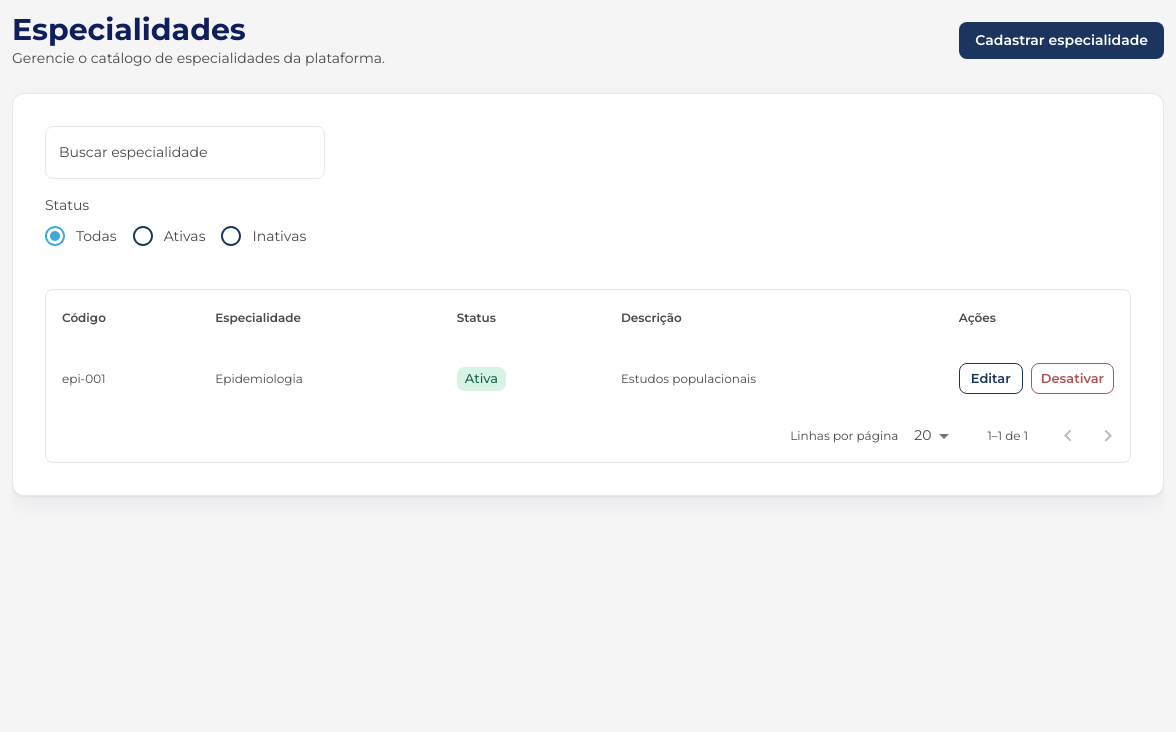
Test: Specialties › descarta alterações ao cancelar e retorna à listagem sem salvar
The width and height of the screenshot is (1176, 732).
Click the button "Editar" at (991, 379), box [959, 363, 1023, 394]
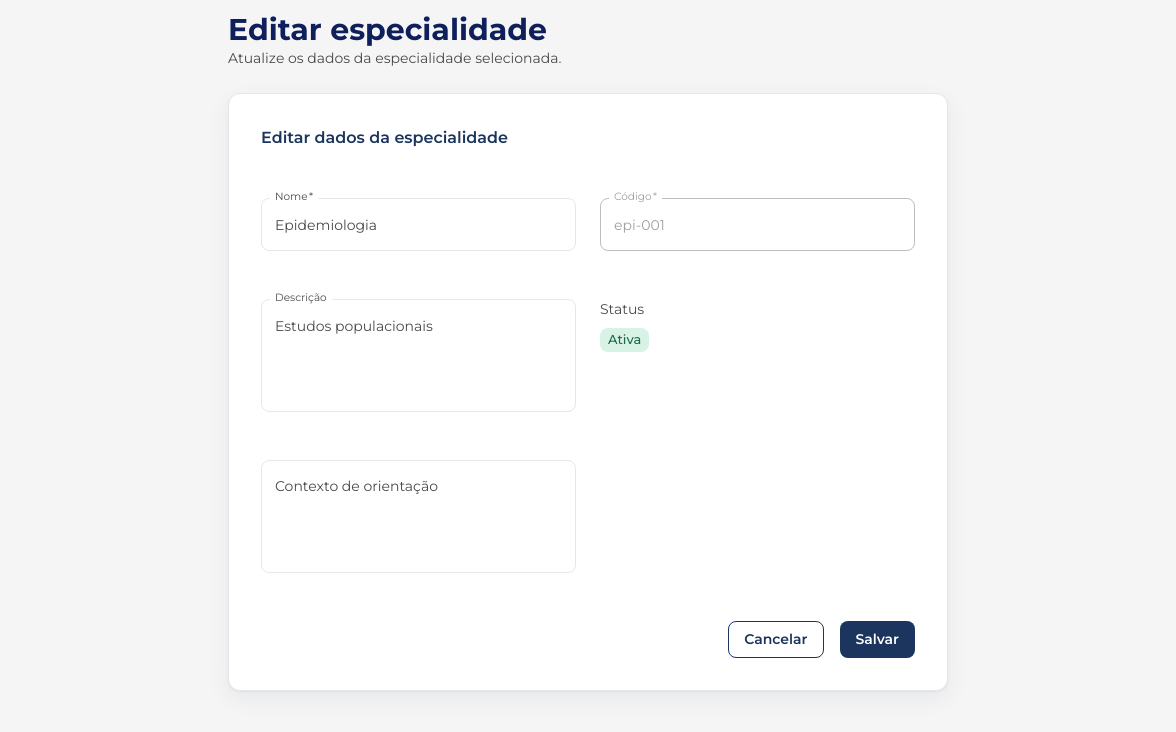
Replace the text in the field labelled "Nome *" with "Alteração não salva" at (418, 225), box [261, 198, 576, 251]
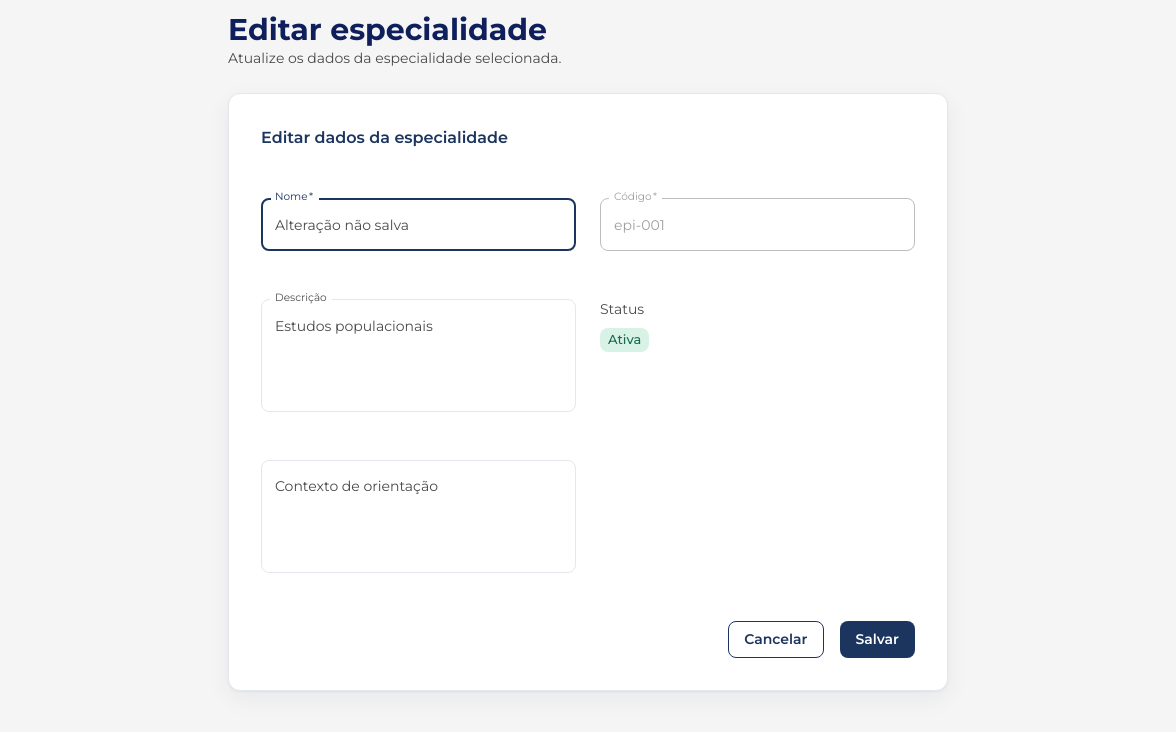
Click the button "Cancelar" at (776, 639), box [728, 621, 824, 658]
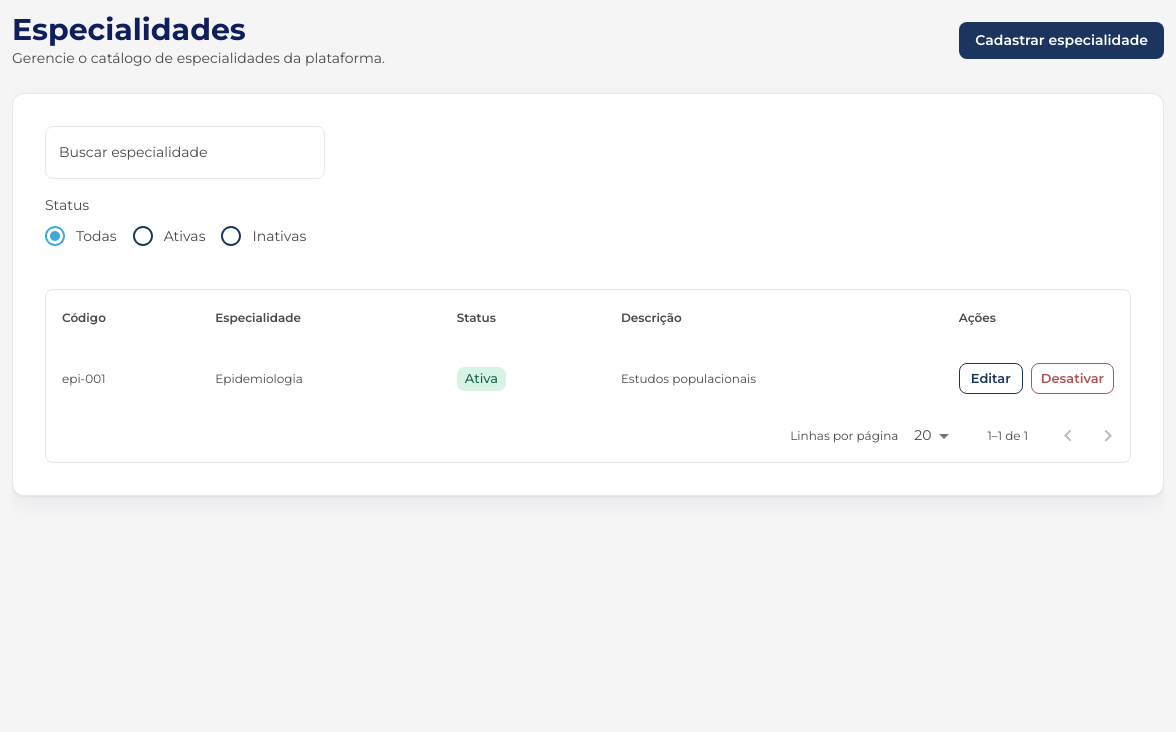
Check: the table named "Lista de especialidades" is shown, box [46, 290, 1130, 410]
Click the button "Editar" at (991, 379), box [959, 363, 1023, 394]
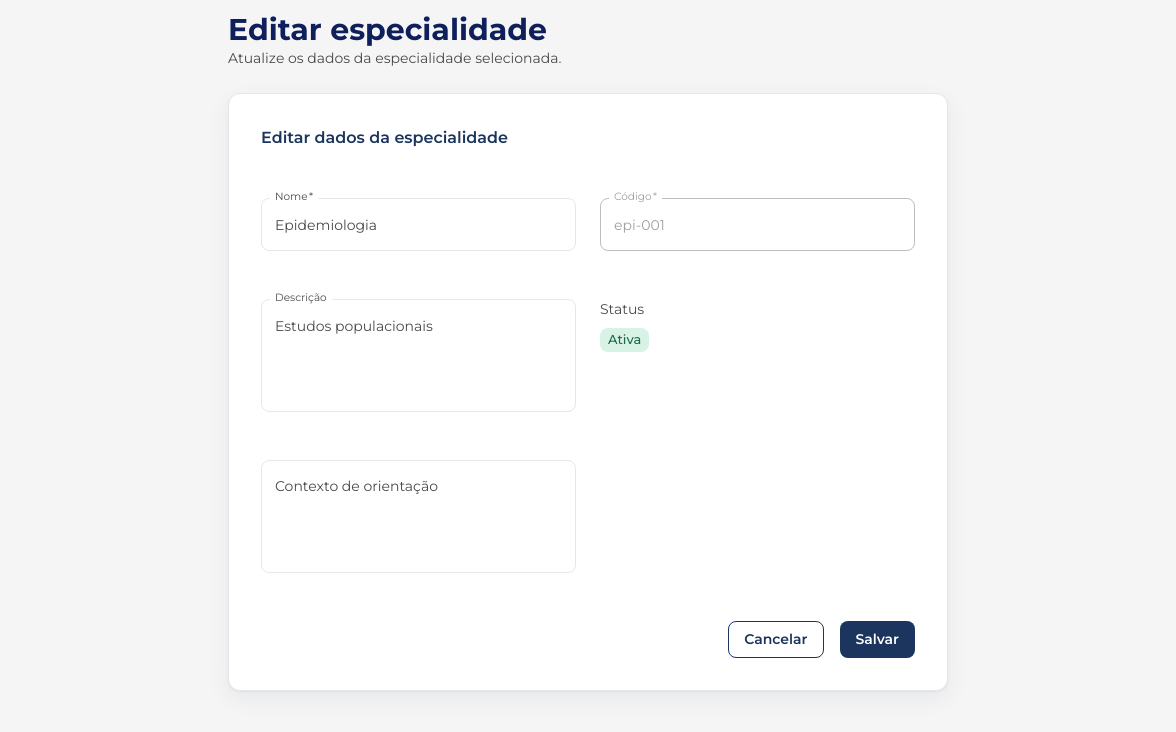
Check: the field labelled "Nome *" holds "Epidemiologia", box [261, 198, 576, 251]
